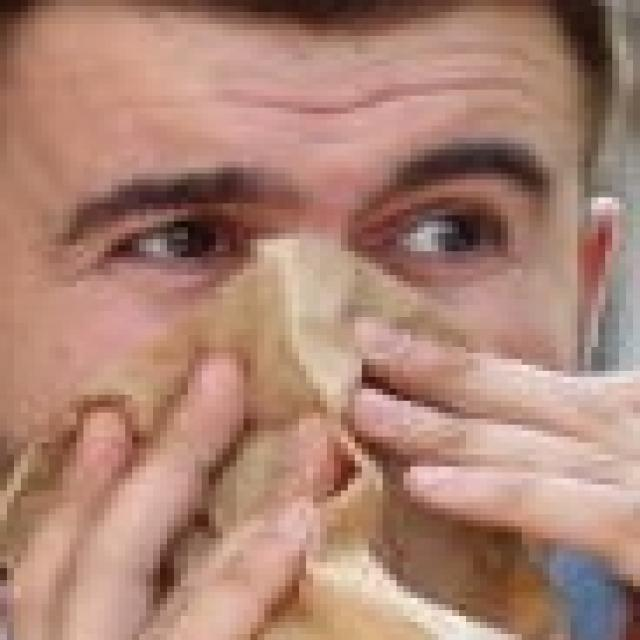Anxiety: (7, 0, 588, 634)
